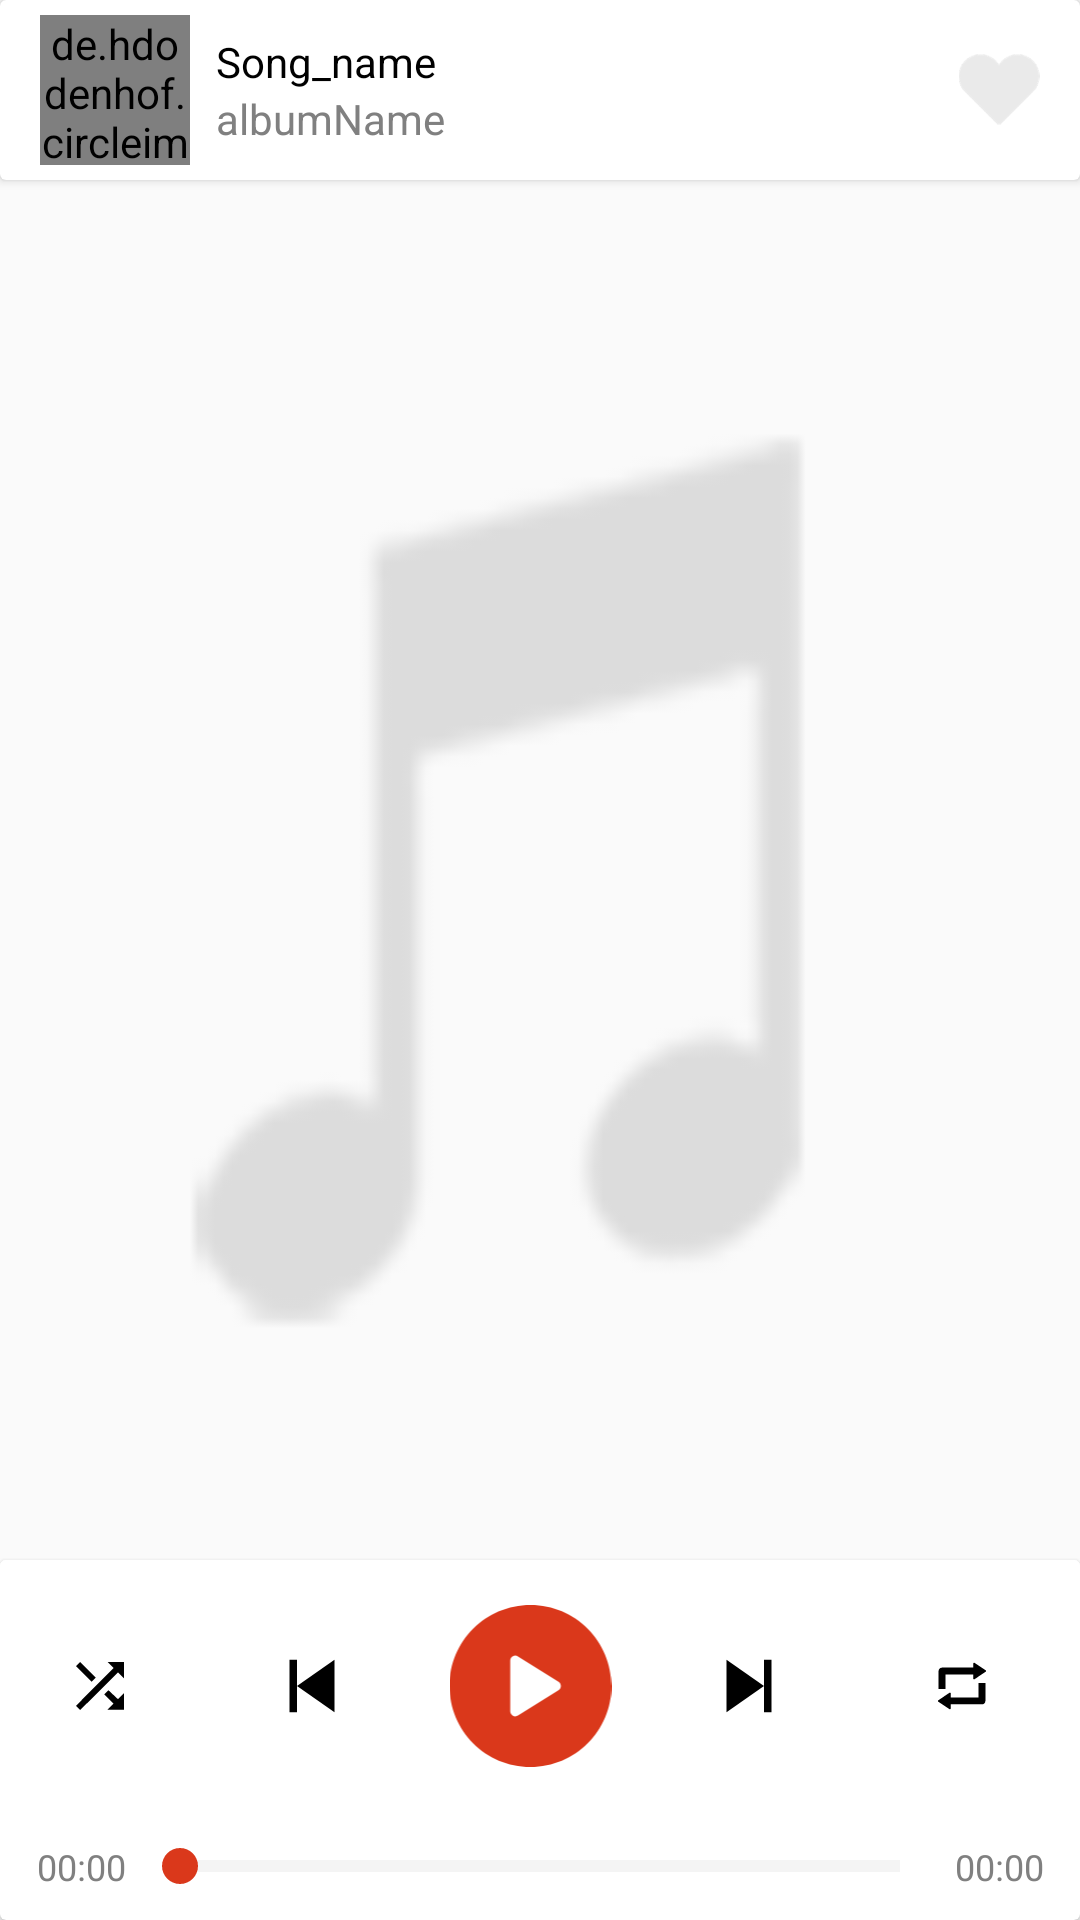

Point at icon controls on the screen. Image size 1080*1920, points as (x=x, y=y).
next: (x=749, y=1686)
play: (x=531, y=1686)
previous: (x=312, y=1686)
repeat: (x=962, y=1686)
shuffle: (x=100, y=1686)
